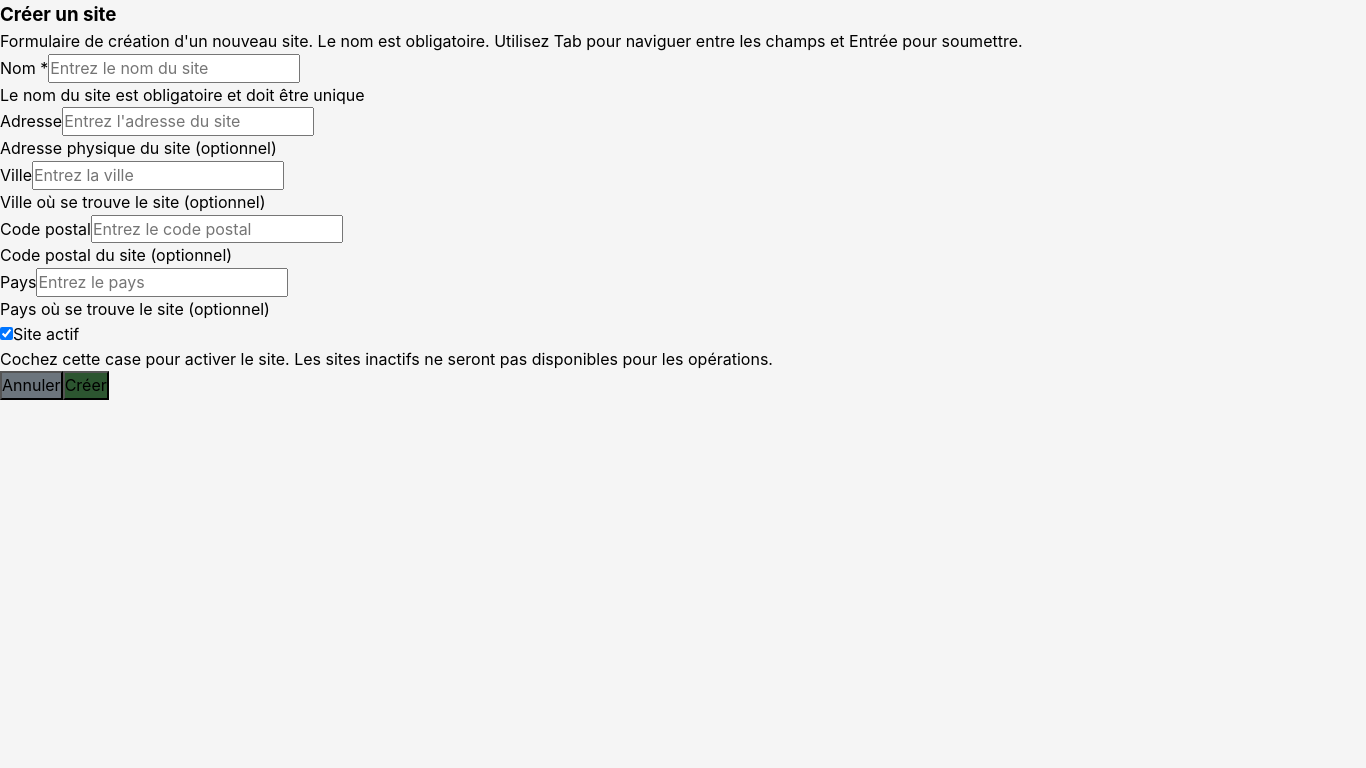
Test: SiteForm › should display error message on API failure
Type "New Site" into the field labelled "Nom *". click: x=174, y=68
box: [48,54,300,83]
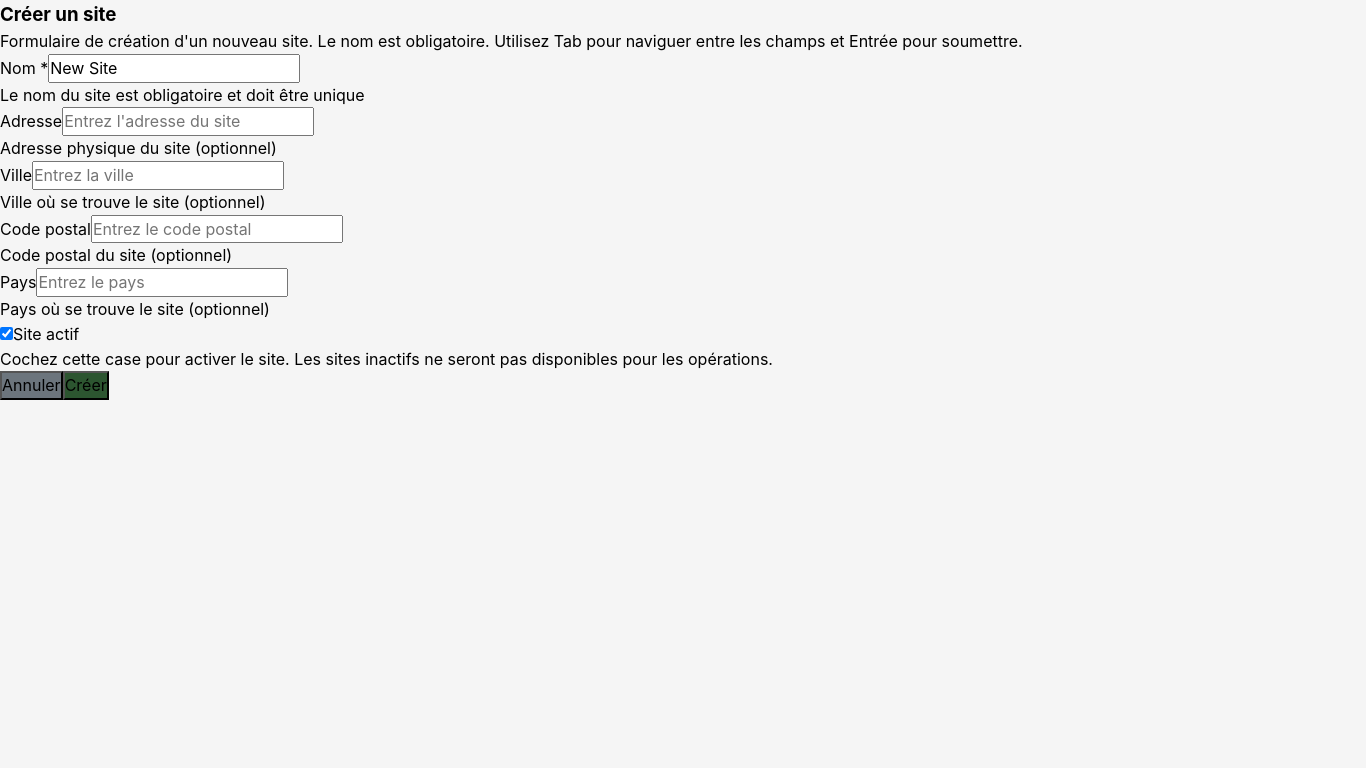
Click the button "Créer". click: x=86, y=386
box: [63,371,109,400]
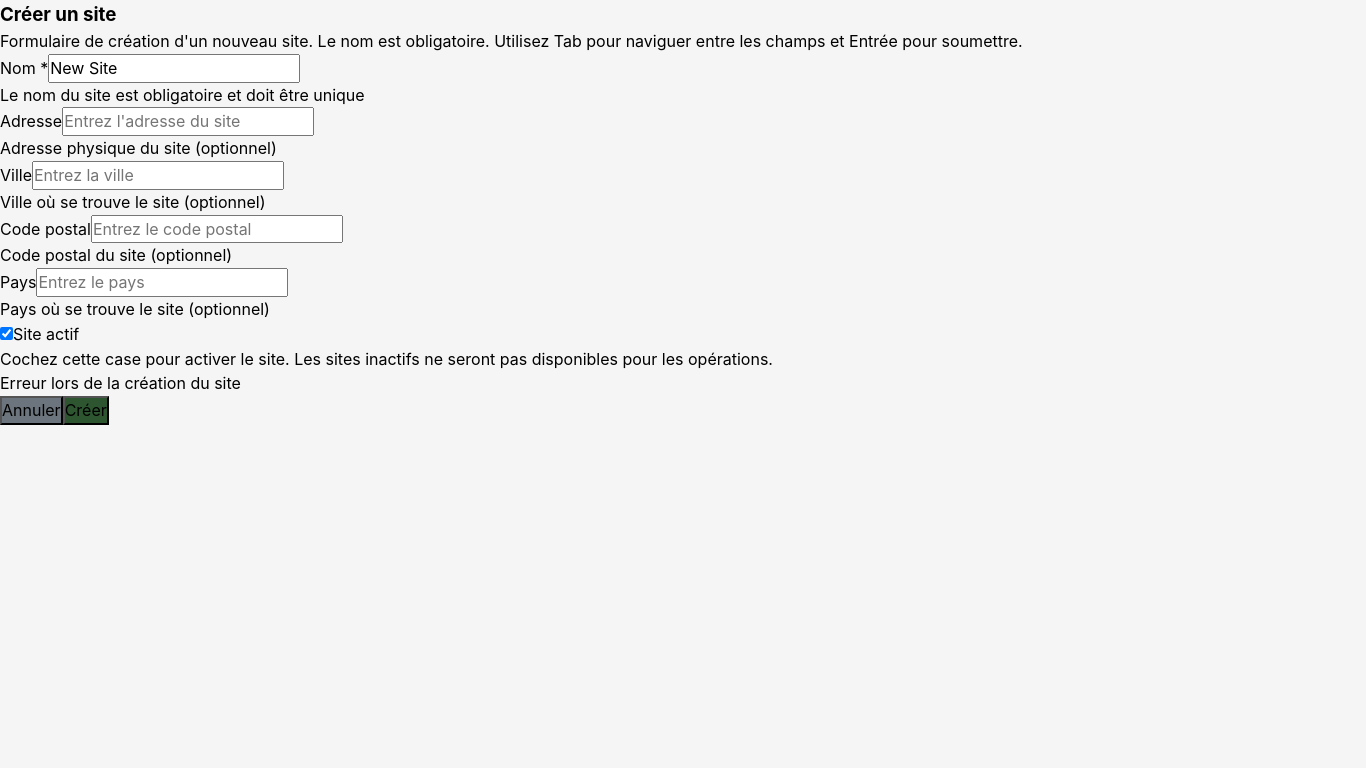
Now the text "Erreur lors de la création du site" is shown, box [0,373,241,393]
